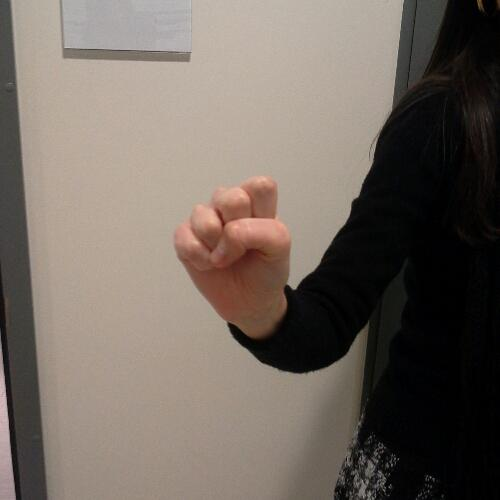rock: (164, 168, 300, 324)
